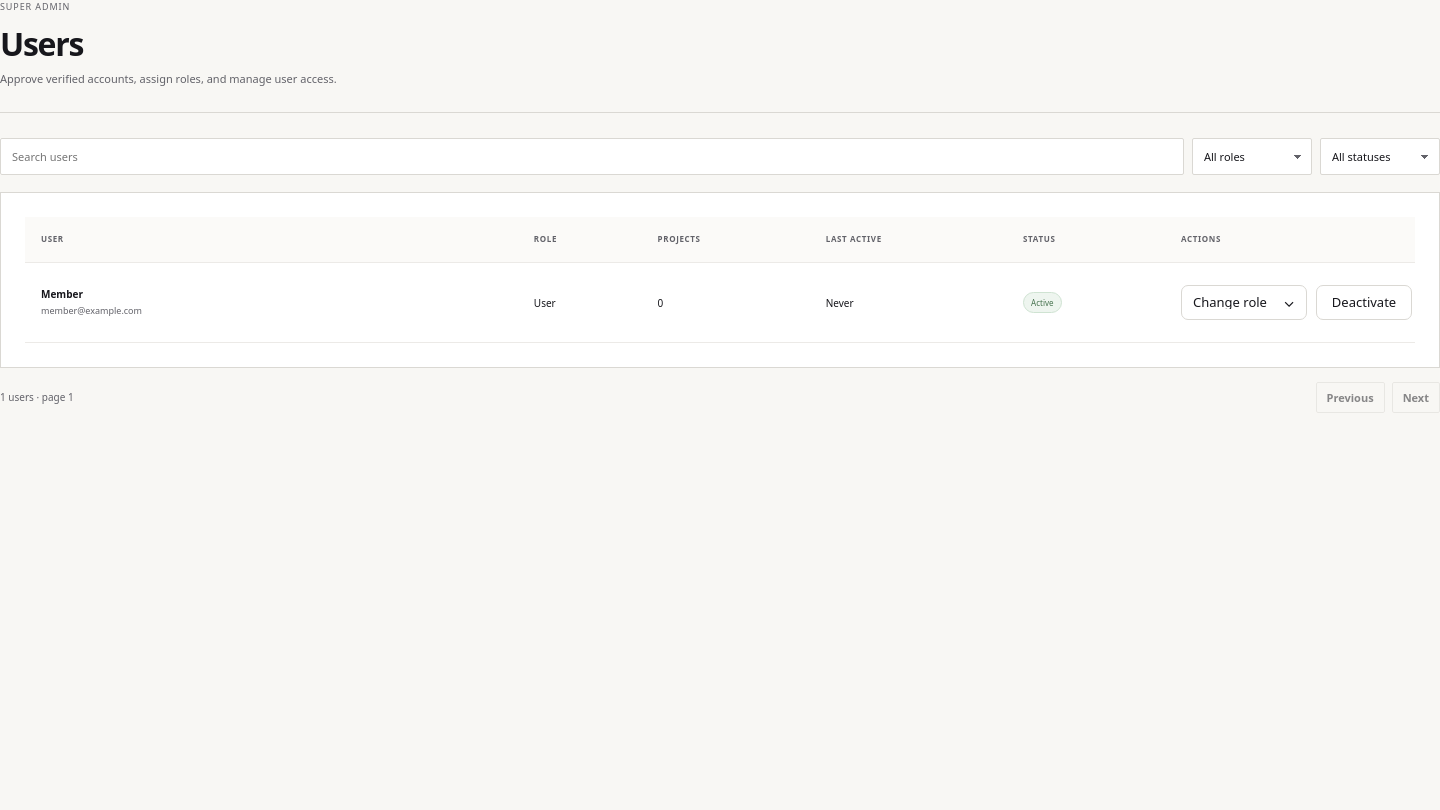
Test: UserManagementPage › confirms a role change and shows success after refreshing the user list
Select "Admin" in the dropdown named "Change role for Member" at (1244, 303), box [1181, 285, 1307, 320]
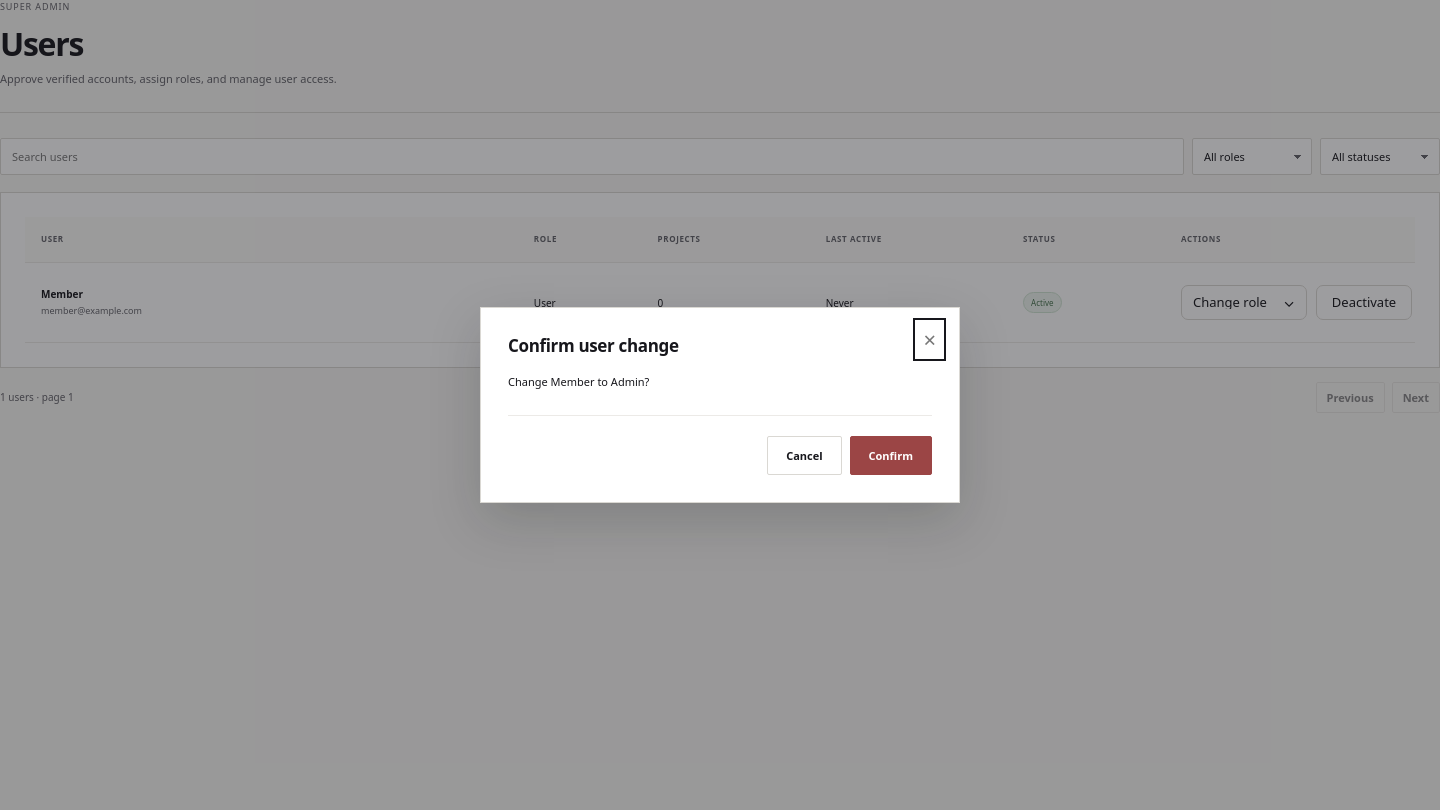
Now the dialog shows "Change Member to Admin?", box [508, 374, 649, 389]
Click the button "Confirm" at (891, 456), box [850, 436, 932, 476]
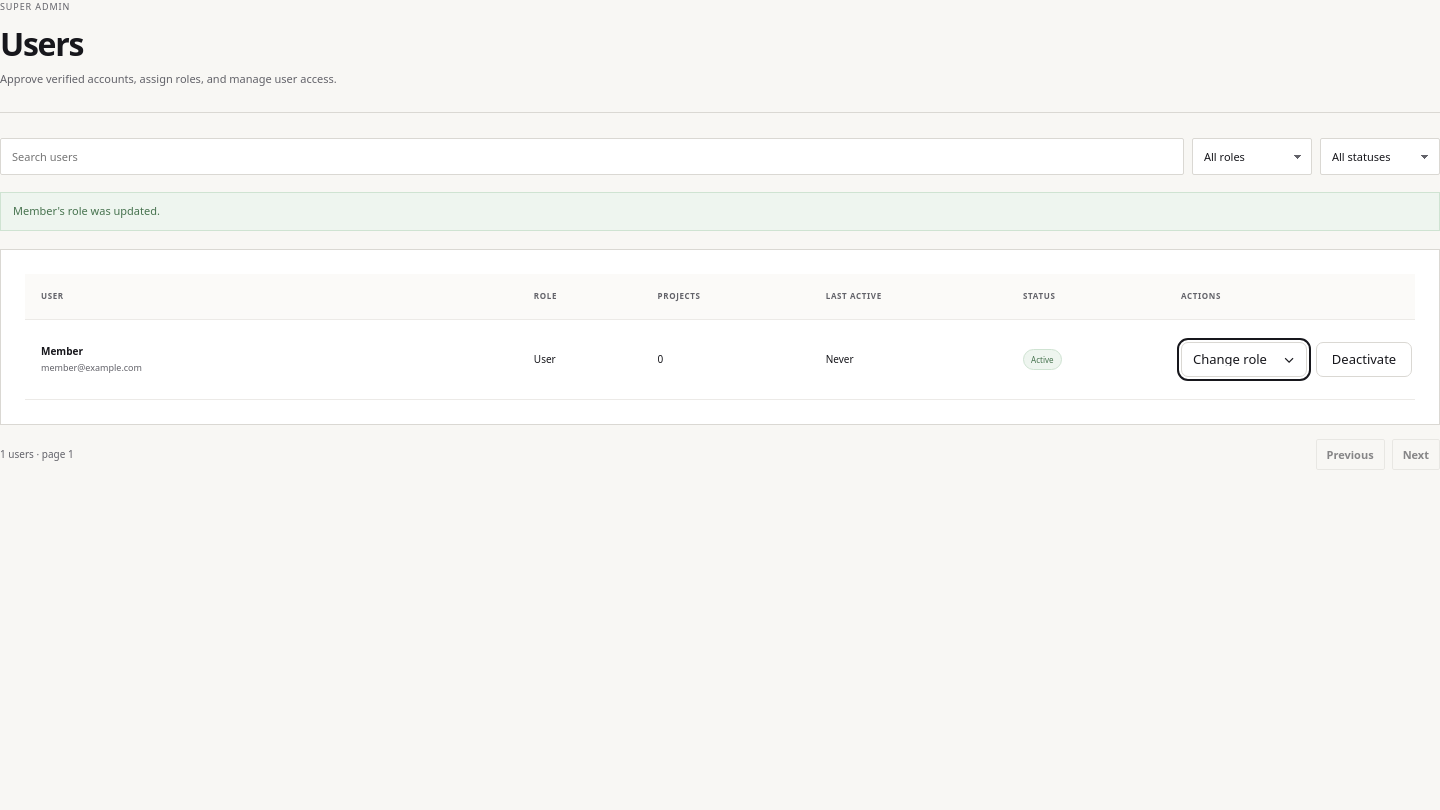
Now the message reads "Member's role was updated.", box [13, 203, 160, 218]
